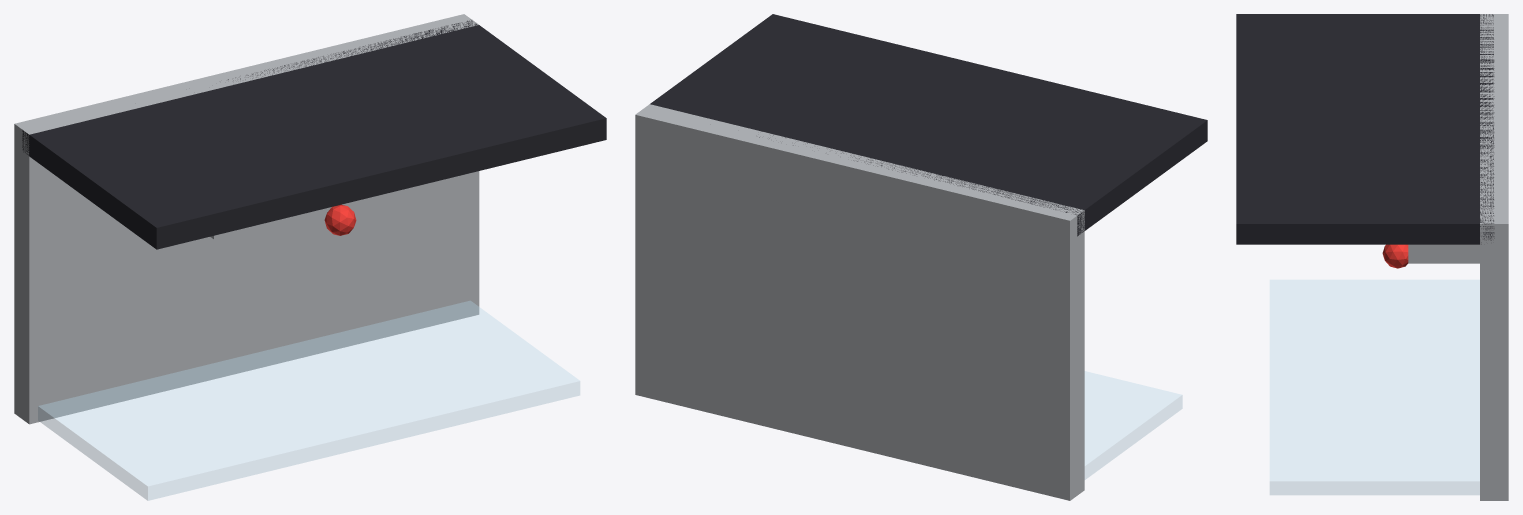
The model's file is corporate_observation_pod.glb.
The picture shows the model from 3 angles, left to right: view 1: azimuth 30°, elevation 25°; view 2: azimuth 150°, elevation 25°; view 3: azimuth 270°, elevation 25°; orthographic projection. The views are drawn at different scales.
Visible parts, largest first — view 1: floor, backwall, glass, light; view 2: floor, backwall, glass; view 3: backwall, glass, floor, console, light.
Part boxes in pixels (x1,y1,x2,y2): floor: (14, 14, 479, 424); backwall: (22, 19, 606, 249); glass: (38, 301, 579, 500); light: (324, 204, 356, 235); floor: (635, 104, 1084, 500); backwall: (650, 14, 1207, 236); glass: (1085, 371, 1182, 479); backwall: (1236, 14, 1494, 244); glass: (1270, 280, 1479, 494); floor: (1480, 14, 1508, 500); console: (1408, 244, 1479, 263); light: (1382, 244, 1408, 268).
Bounding box in the file's own units: 2.6 × 1.6 × 1.42.
